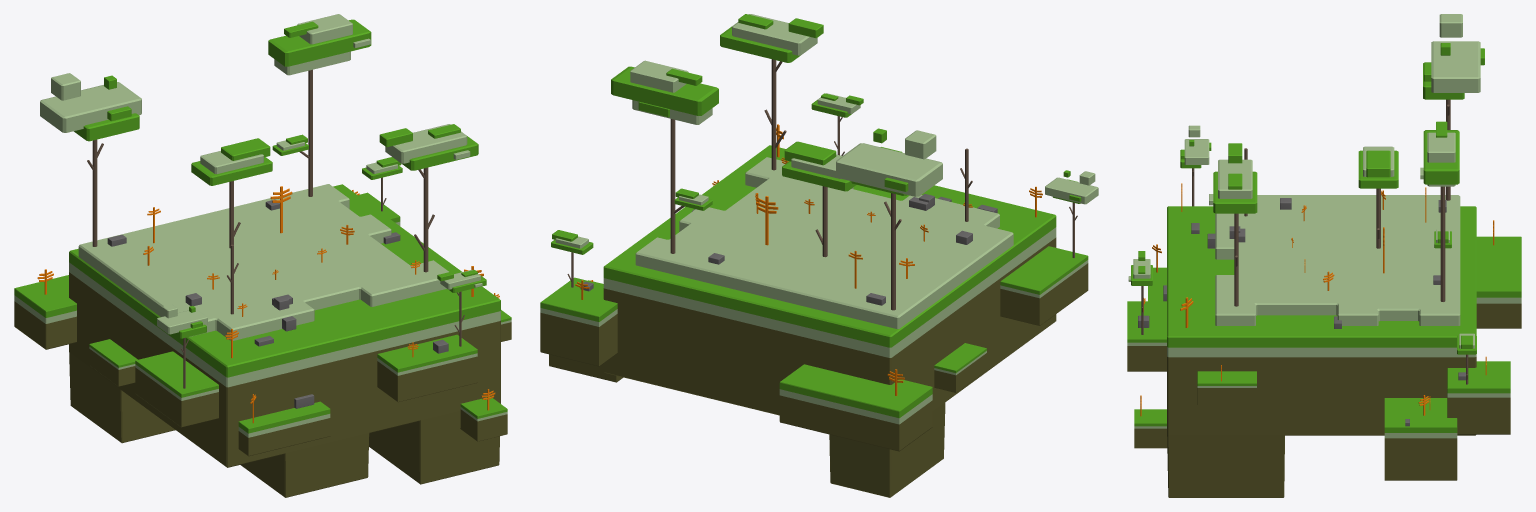
Rendered from Island_17.fbx.
3 renders of one model, left to right at view 1: azimuth 30°, elevation 25°; view 2: azimuth 150°, elevation 25°; view 3: azimuth 270°, elevation 25°, orthographic. The views are drawn at different scales.
Visible parts, largest first — view 1: Island_17; view 2: Island_17; view 3: Island_17.
Boxes of the visible parts, x1=… form: Island_17: x1=14, y1=14, x2=511, y2=497; Island_17: x1=540, y1=14, x2=1098, y2=497; Island_17: x1=1127, y1=14, x2=1521, y2=497.
Bounding box in the file's own units: 2838 × 2579 × 2473.
